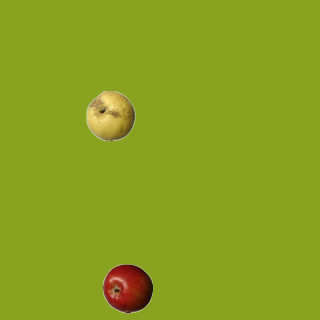Apple Braeburn: (102, 263, 152, 313)
Apple Golden 1: (85, 90, 135, 140)
